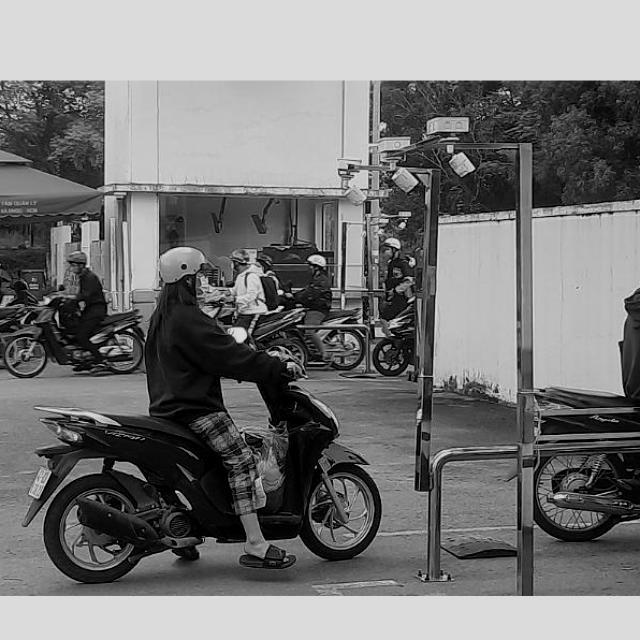Helmet: (157, 245, 210, 298)
